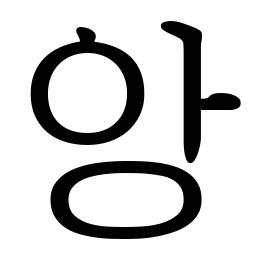Gaji: (170, 83, 216, 127)
